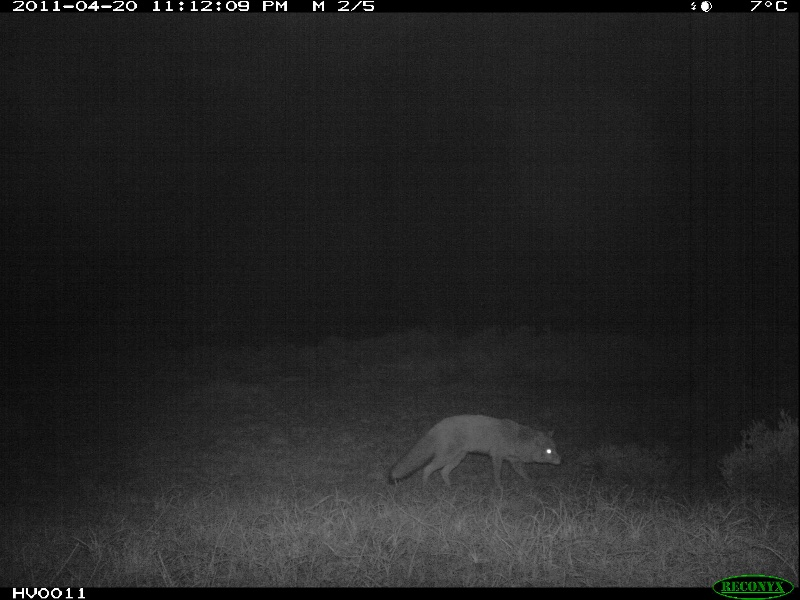fox: (385, 412, 571, 488)
